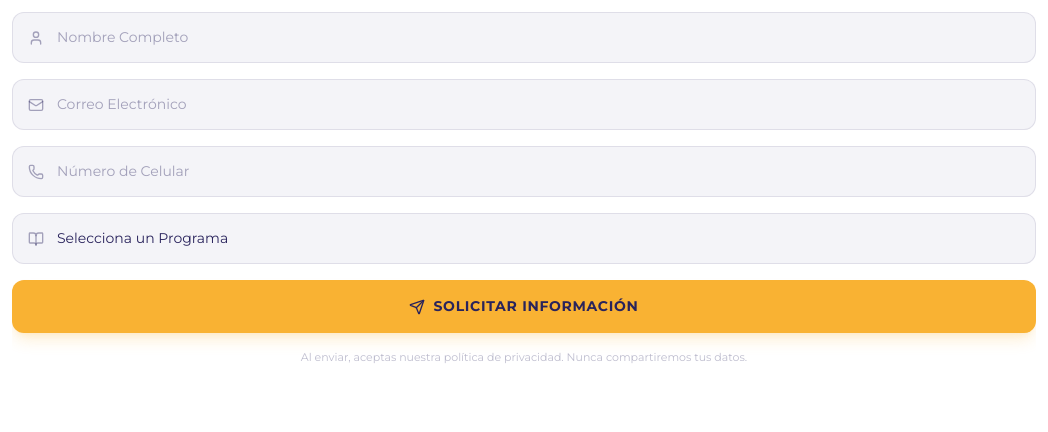
Test case: LeadForm › shows connection error when fetch throws
In the field with placeholder "Nombre Completo": (524, 38) [12,12,1036,63], type "Juan"
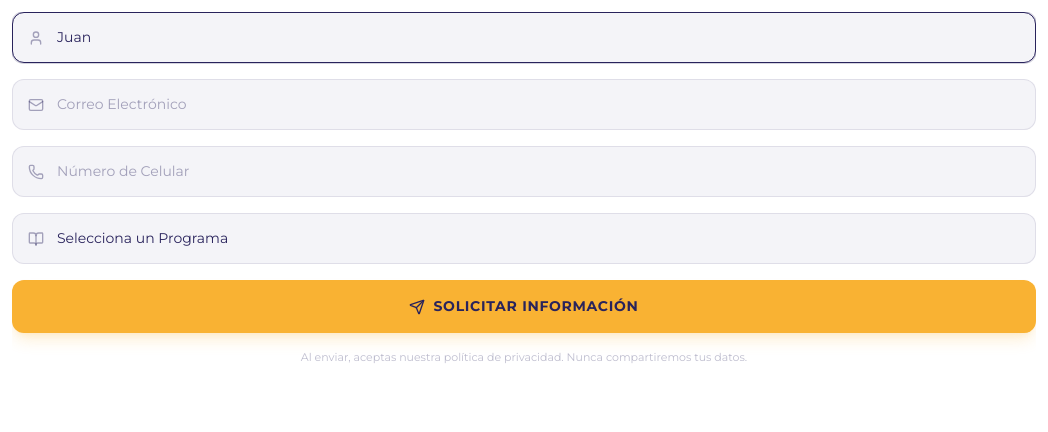
In the field with placeholder "Correo Electrónico": (524, 104) [12,79,1036,130], type "j@e.com"
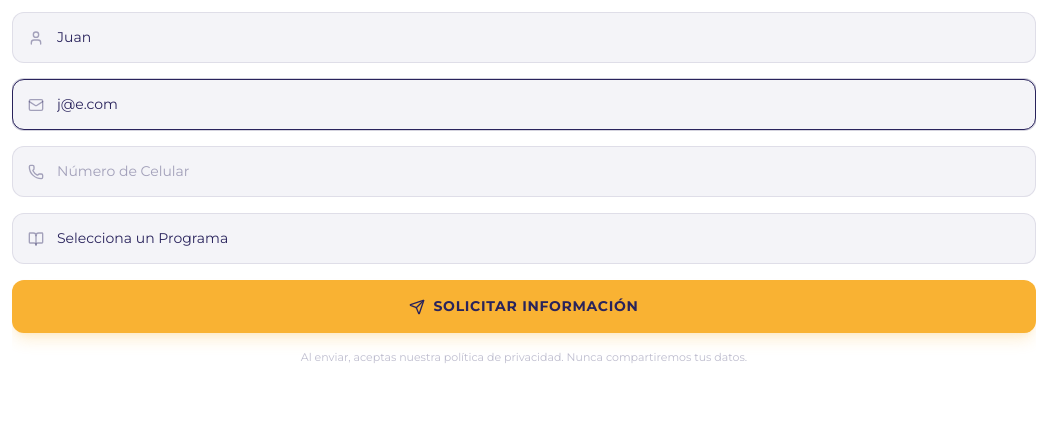
In the field with placeholder "Número de Celular": (524, 172) [12,146,1036,197], type "300"
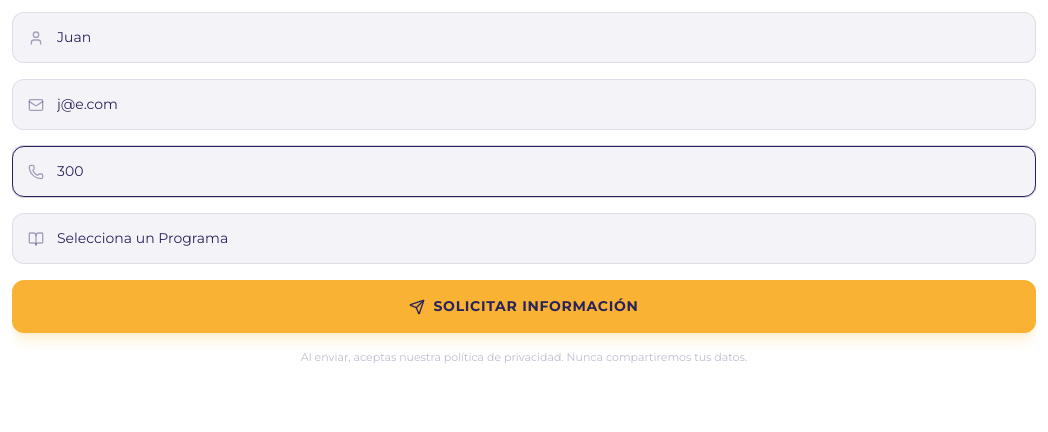
Select "Programa de Inglés" in the dropdown: (524, 238) [12,213,1036,264]
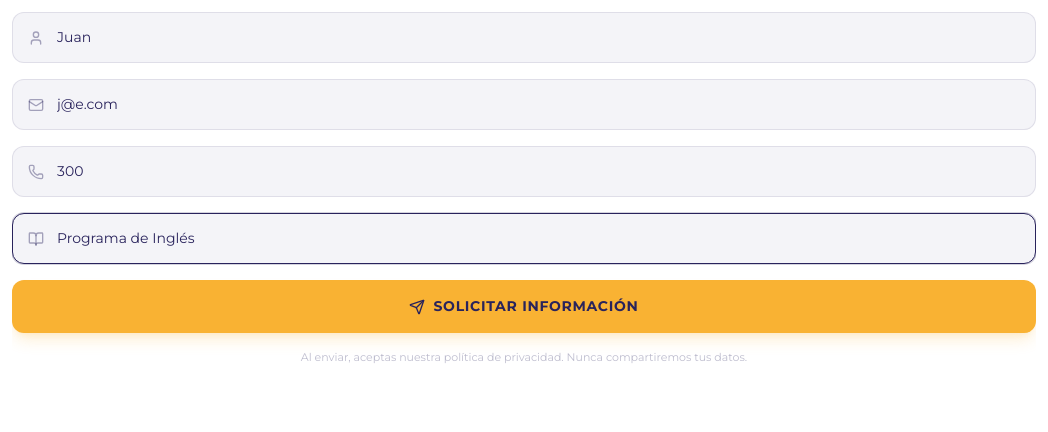
Click the button "Solicitar Información": (524, 306) [12,280,1036,333]
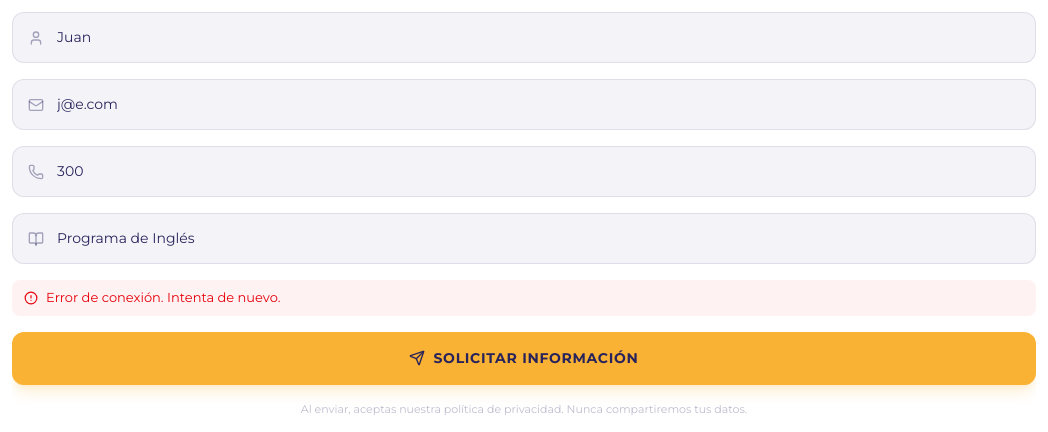
Expected: the text "Error de conexión. Intenta de nuevo." is shown, [12,280,1036,316]
